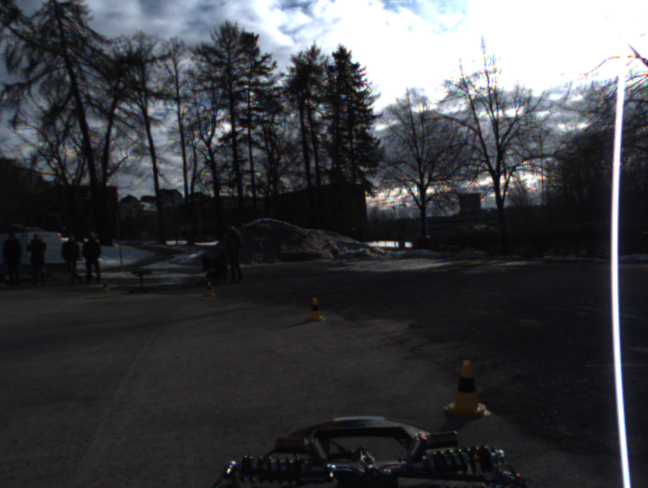cone-small-yellow: (441, 361, 493, 420), (306, 296, 324, 322), (202, 281, 217, 297), (100, 279, 112, 293)
